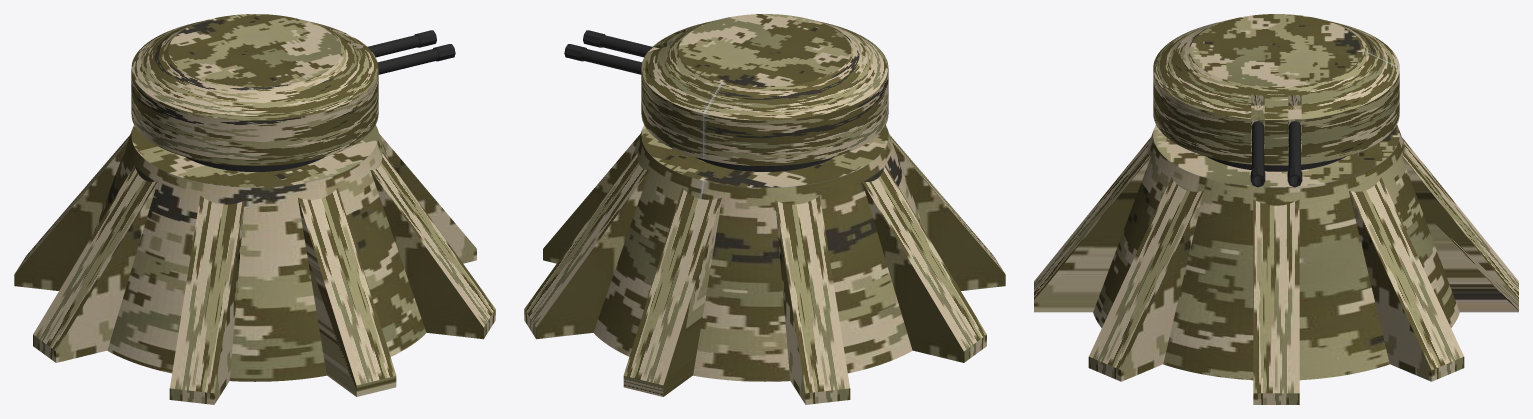
File: Turel.fbx
The picture shows the model from 3 angles, left to right: view 1: azimuth 30°, elevation 25°; view 2: azimuth 150°, elevation 25°; view 3: azimuth 270°, elevation 25°; orthographic projection.
Visible parts, largest first — view 1: Cylinder.004, Cylinder, Cylinder.003; view 2: Cylinder.004, Cylinder, Cylinder.003; view 3: Cylinder.004, Cylinder, Cylinder.003.
Part boxes in pixels (x1,y1,x2,y2): Cylinder.004: [14, 125, 495, 404]; Cylinder: [131, 14, 378, 165]; Cylinder.003: [367, 30, 455, 74]; Cylinder.004: [524, 125, 1005, 404]; Cylinder: [641, 14, 888, 165]; Cylinder.003: [564, 30, 652, 74]; Cylinder.004: [1034, 125, 1518, 404]; Cylinder: [1153, 14, 1399, 165]; Cylinder.003: [1250, 121, 1302, 187].
Size of the model in its own units: 393 by 226 by 393.
2 materials, 1 textured.
